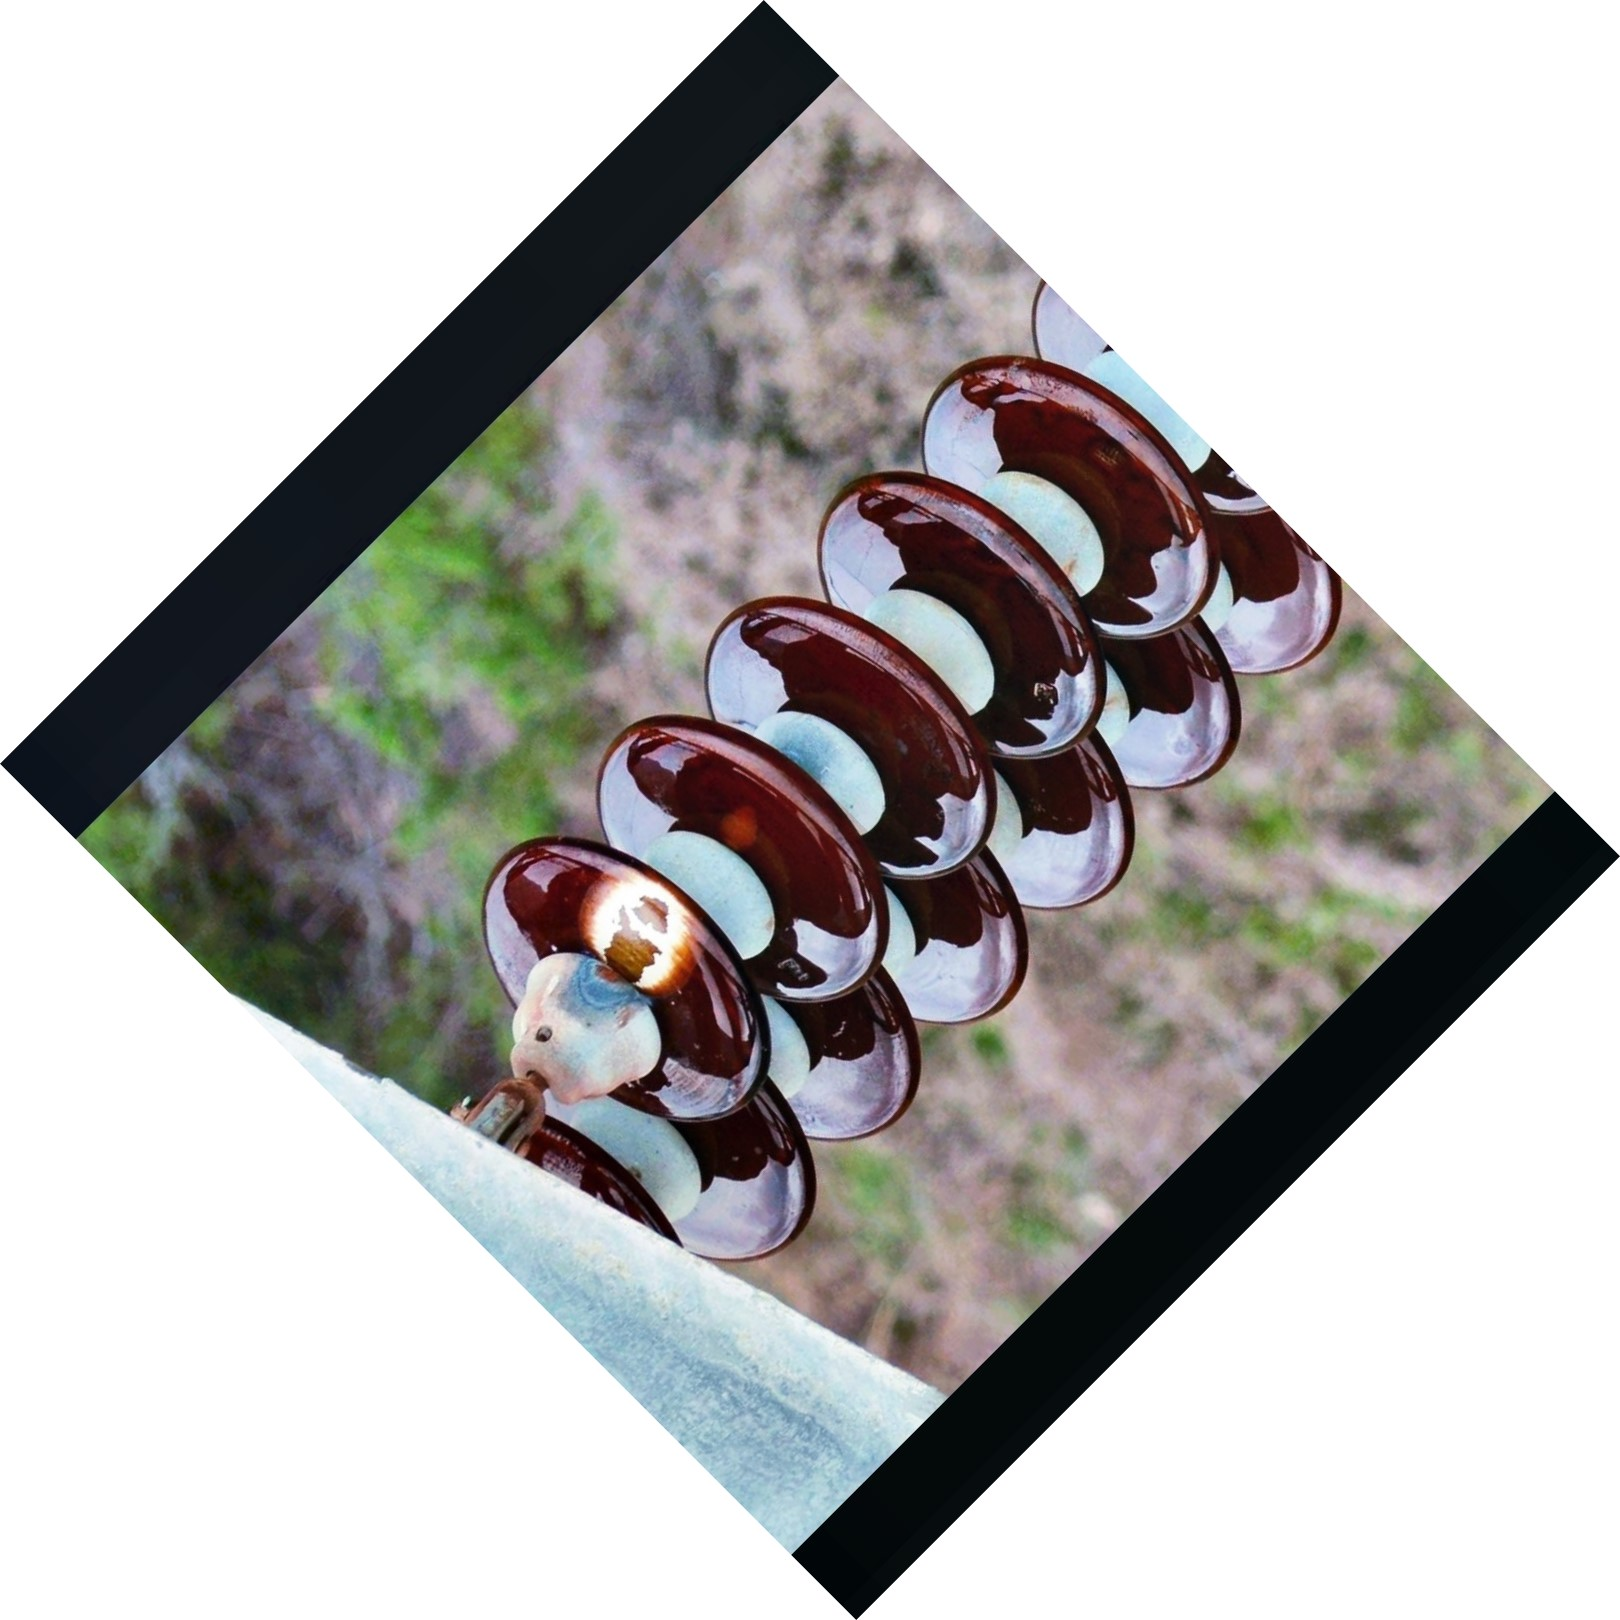Insulator flashover: (461, 820, 782, 1135)
